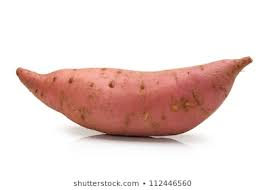Sweet Potato: (13, 43, 253, 138)
